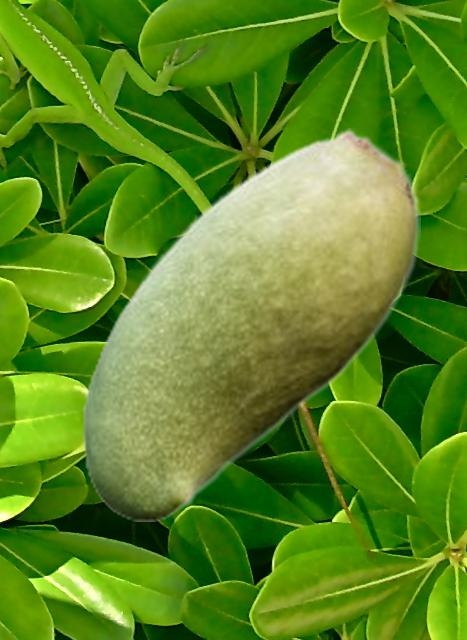green_mango: (81, 128, 419, 520)
